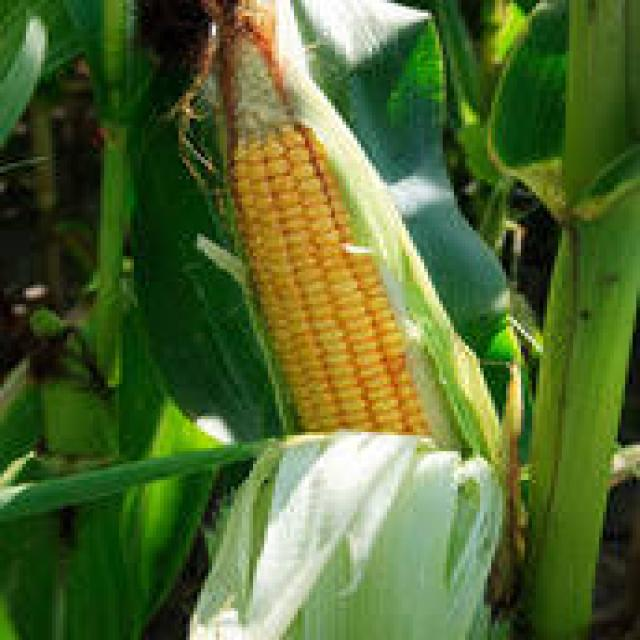purecorn: (174, 22, 518, 475)
